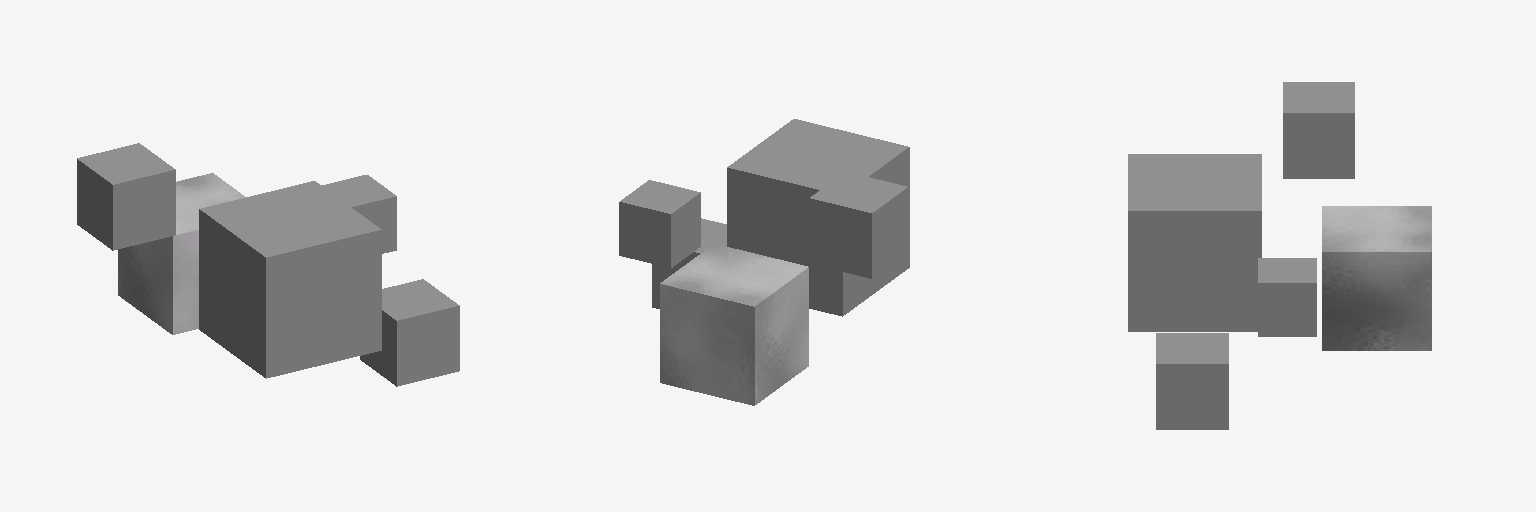
3 views of the same model, side by side, from view 1: azimuth 30°, elevation 25°; view 2: azimuth 150°, elevation 25°; view 3: azimuth 270°, elevation 25° (orthographic).
Visible parts, largest first — view 1: Cube.001, Cube.002, Cube.004, Cube.003, Cube; view 2: Cube.002, Cube.001, Cube.004, Cube, Cube.003; view 3: Cube.001, Cube.002, Cube.003, Cube.004, Cube.
Part boxes in pixels (left/top/right/bottom): Cube.001: left=199, top=181, right=381, bottom=378; Cube.002: left=118, top=173, right=245, bottom=334; Cube.004: left=77, top=143, right=175, bottom=250; Cube.003: left=360, top=279, right=459, bottom=386; Cube: left=322, top=175, right=396, bottom=253; Cube.002: left=660, top=244, right=808, bottom=405; Cube.001: left=727, top=119, right=909, bottom=316; Cube.004: left=809, top=172, right=908, bottom=278; Cube: left=619, top=180, right=700, bottom=267; Cube.003: left=652, top=218, right=726, bottom=308; Cube.001: left=1128, top=154, right=1261, bottom=331; Cube.002: left=1322, top=206, right=1431, bottom=350; Cube.003: left=1156, top=333, right=1228, bottom=429; Cube.004: left=1283, top=82, right=1354, bottom=178; Cube: left=1258, top=258, right=1316, bottom=336.
Bounding box in the file's own units: 10.96 × 7.73 × 10.14.
Materials: 5 (1 with a texture image).